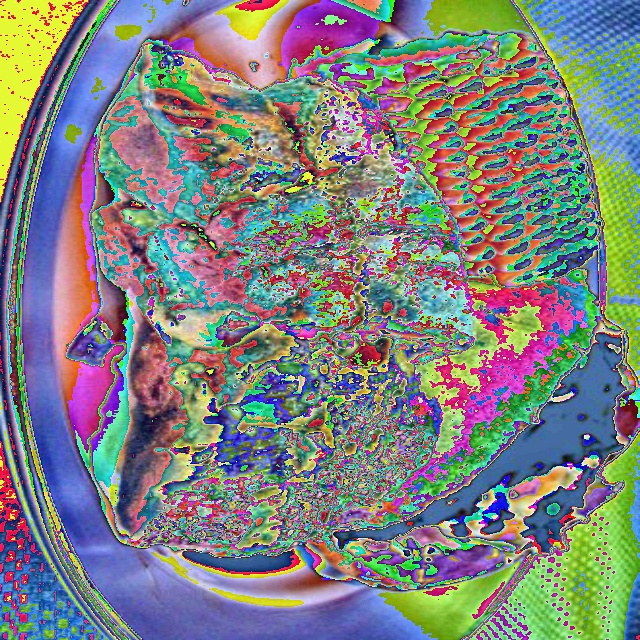background: (90, 29, 639, 591)
